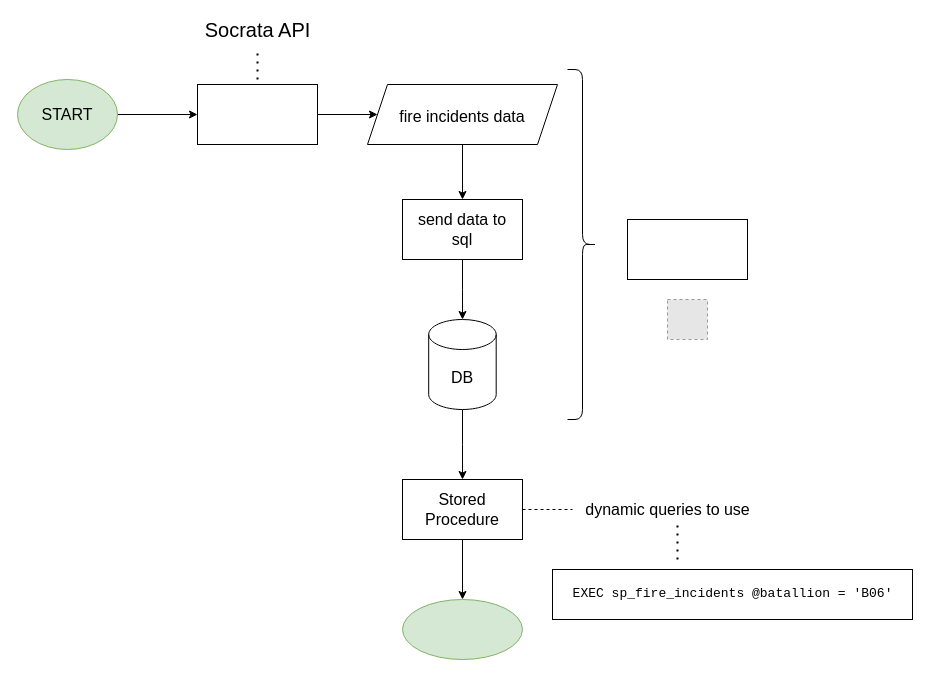
Some shapes in this 930 by 677 pixel diagram are drawn without their labels. Grey dashed boxes stand in for pictures. The centre of each missing label's shape, as x and y in pixels:
Automate python script in Jenkins: [687,249]
END: [462,629]
GET DATA FROM SOURCE: [257,114]
